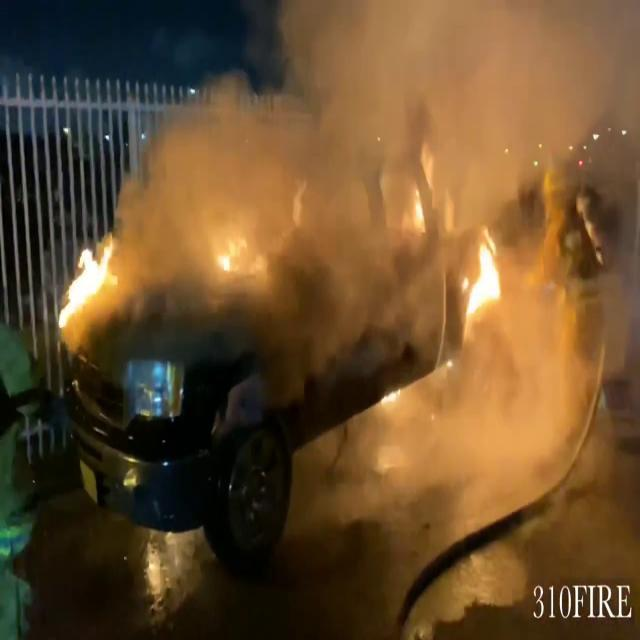Fire: (55, 221, 118, 331), (457, 225, 507, 323)
Smoke: (120, 0, 640, 292)
